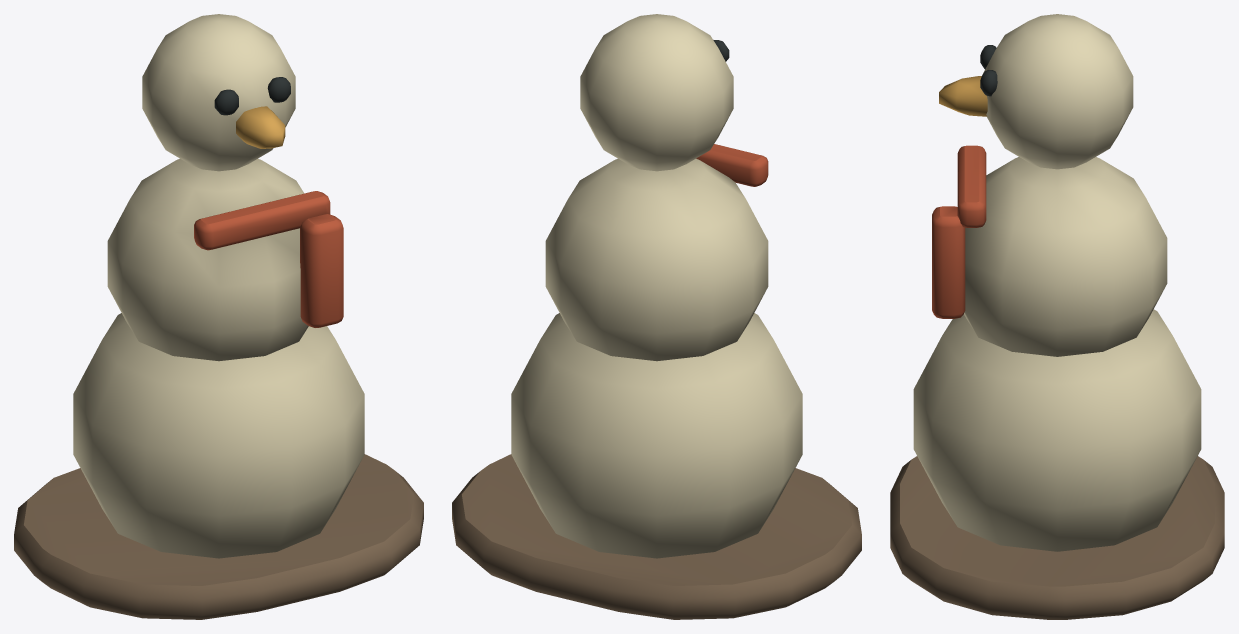
The model's file is event_snow.glb.
3 renders of one model, left to right at view 1: azimuth 30°, elevation 25°; view 2: azimuth 150°, elevation 25°; view 3: azimuth 270°, elevation 25°, orthographic.
Visible parts, largest first — view 1: EventSnow; view 2: EventSnow; view 3: EventSnow.
Part boxes in pixels (box(x1,y1,x2,y2)): EventSnow: box(14, 14, 423, 619); EventSnow: box(452, 14, 861, 619); EventSnow: box(890, 14, 1224, 619).
Bounding box in the file's own units: 1.06 × 1.51 × 0.86.
